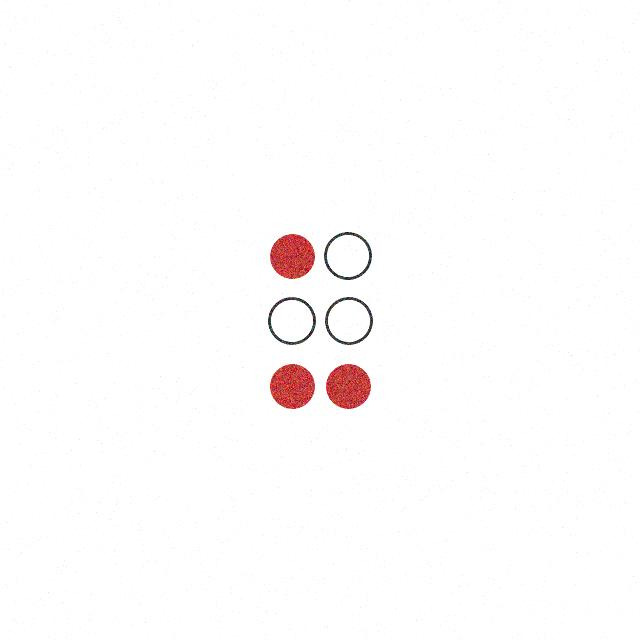U: (269, 229, 375, 410)
